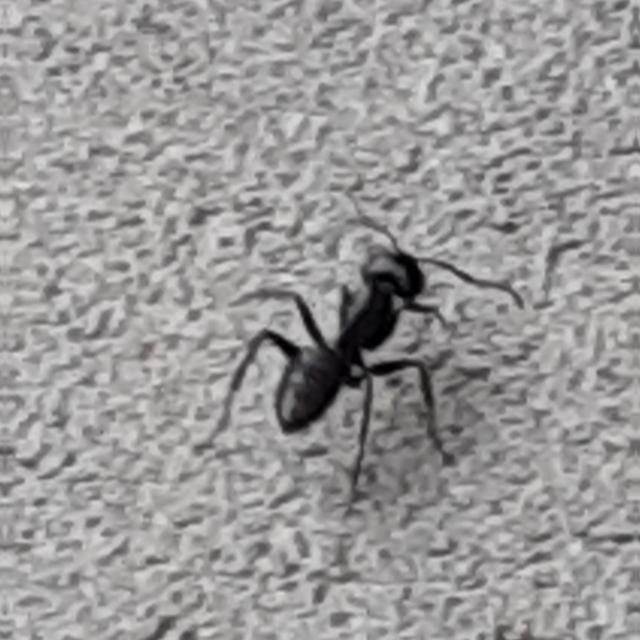Camponotus: (194, 200, 526, 466)
